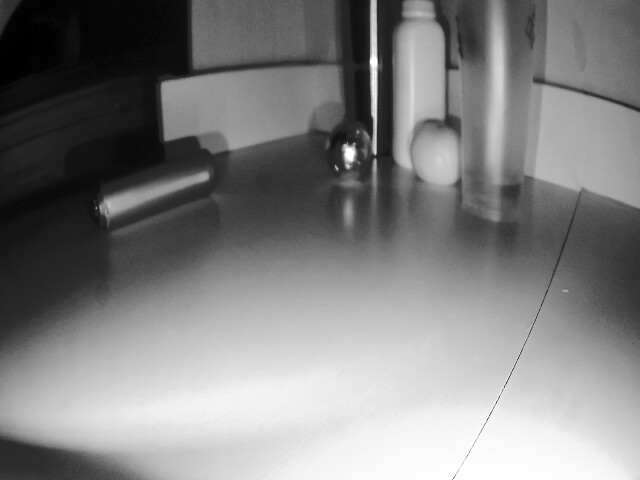silver: (325, 118, 371, 180)
